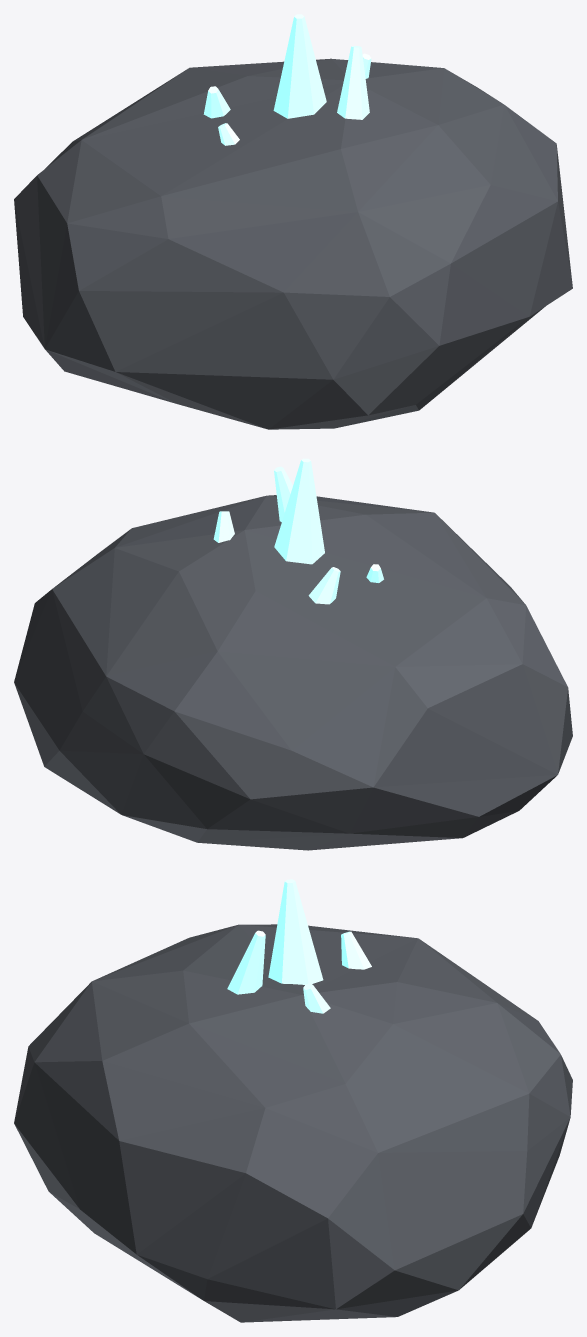
Rendered from brightsteel_ore_detailed.glb.
The picture shows the model from 3 angles, top to bottom: view 1: azimuth 30°, elevation 25°; view 2: azimuth 150°, elevation 25°; view 3: azimuth 270°, elevation 25°; orthographic projection. The views are drawn at different scales.
Parts seen in each view (by area): view 1: Icosphere, Cone.004, Cone.002, Cone.003; view 2: Icosphere, Cone.004, Cone.003, Cone.002, Cone; view 3: Icosphere, Cone.004, Cone.002, Cone.003.
Part boxes in pixels (x1=…): Icosphere: x1=14, y1=58, x2=572, y2=429; Cone.004: x1=273, y1=14, x2=326, y2=118; Cone.002: x1=337, y1=46, x2=369, y2=119; Cone.003: x1=203, y1=86, x2=230, y2=118; Icosphere: x1=14, y1=495, x2=572, y2=850; Cone.004: x1=274, y1=458, x2=324, y2=564; Cone.003: x1=308, y1=567, x2=340, y2=604; Cone.002: x1=274, y1=466, x2=292, y2=521; Cone: x1=213, y1=511, x2=234, y2=542; Icosphere: x1=14, y1=924, x2=572, y2=1322; Cone.004: x1=268, y1=879, x2=323, y2=984; Cone.002: x1=227, y1=930, x2=265, y2=994; Cone.003: x1=341, y1=931, x2=371, y2=969.
Bounding box in the file's own units: 2.31 × 1.6 × 2.08.
